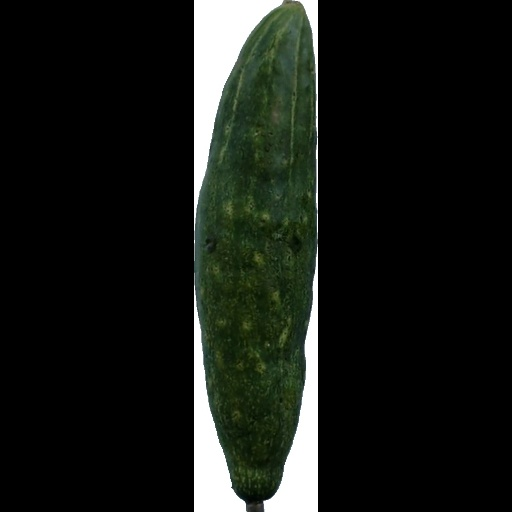concombre: (194, 1, 318, 512)
